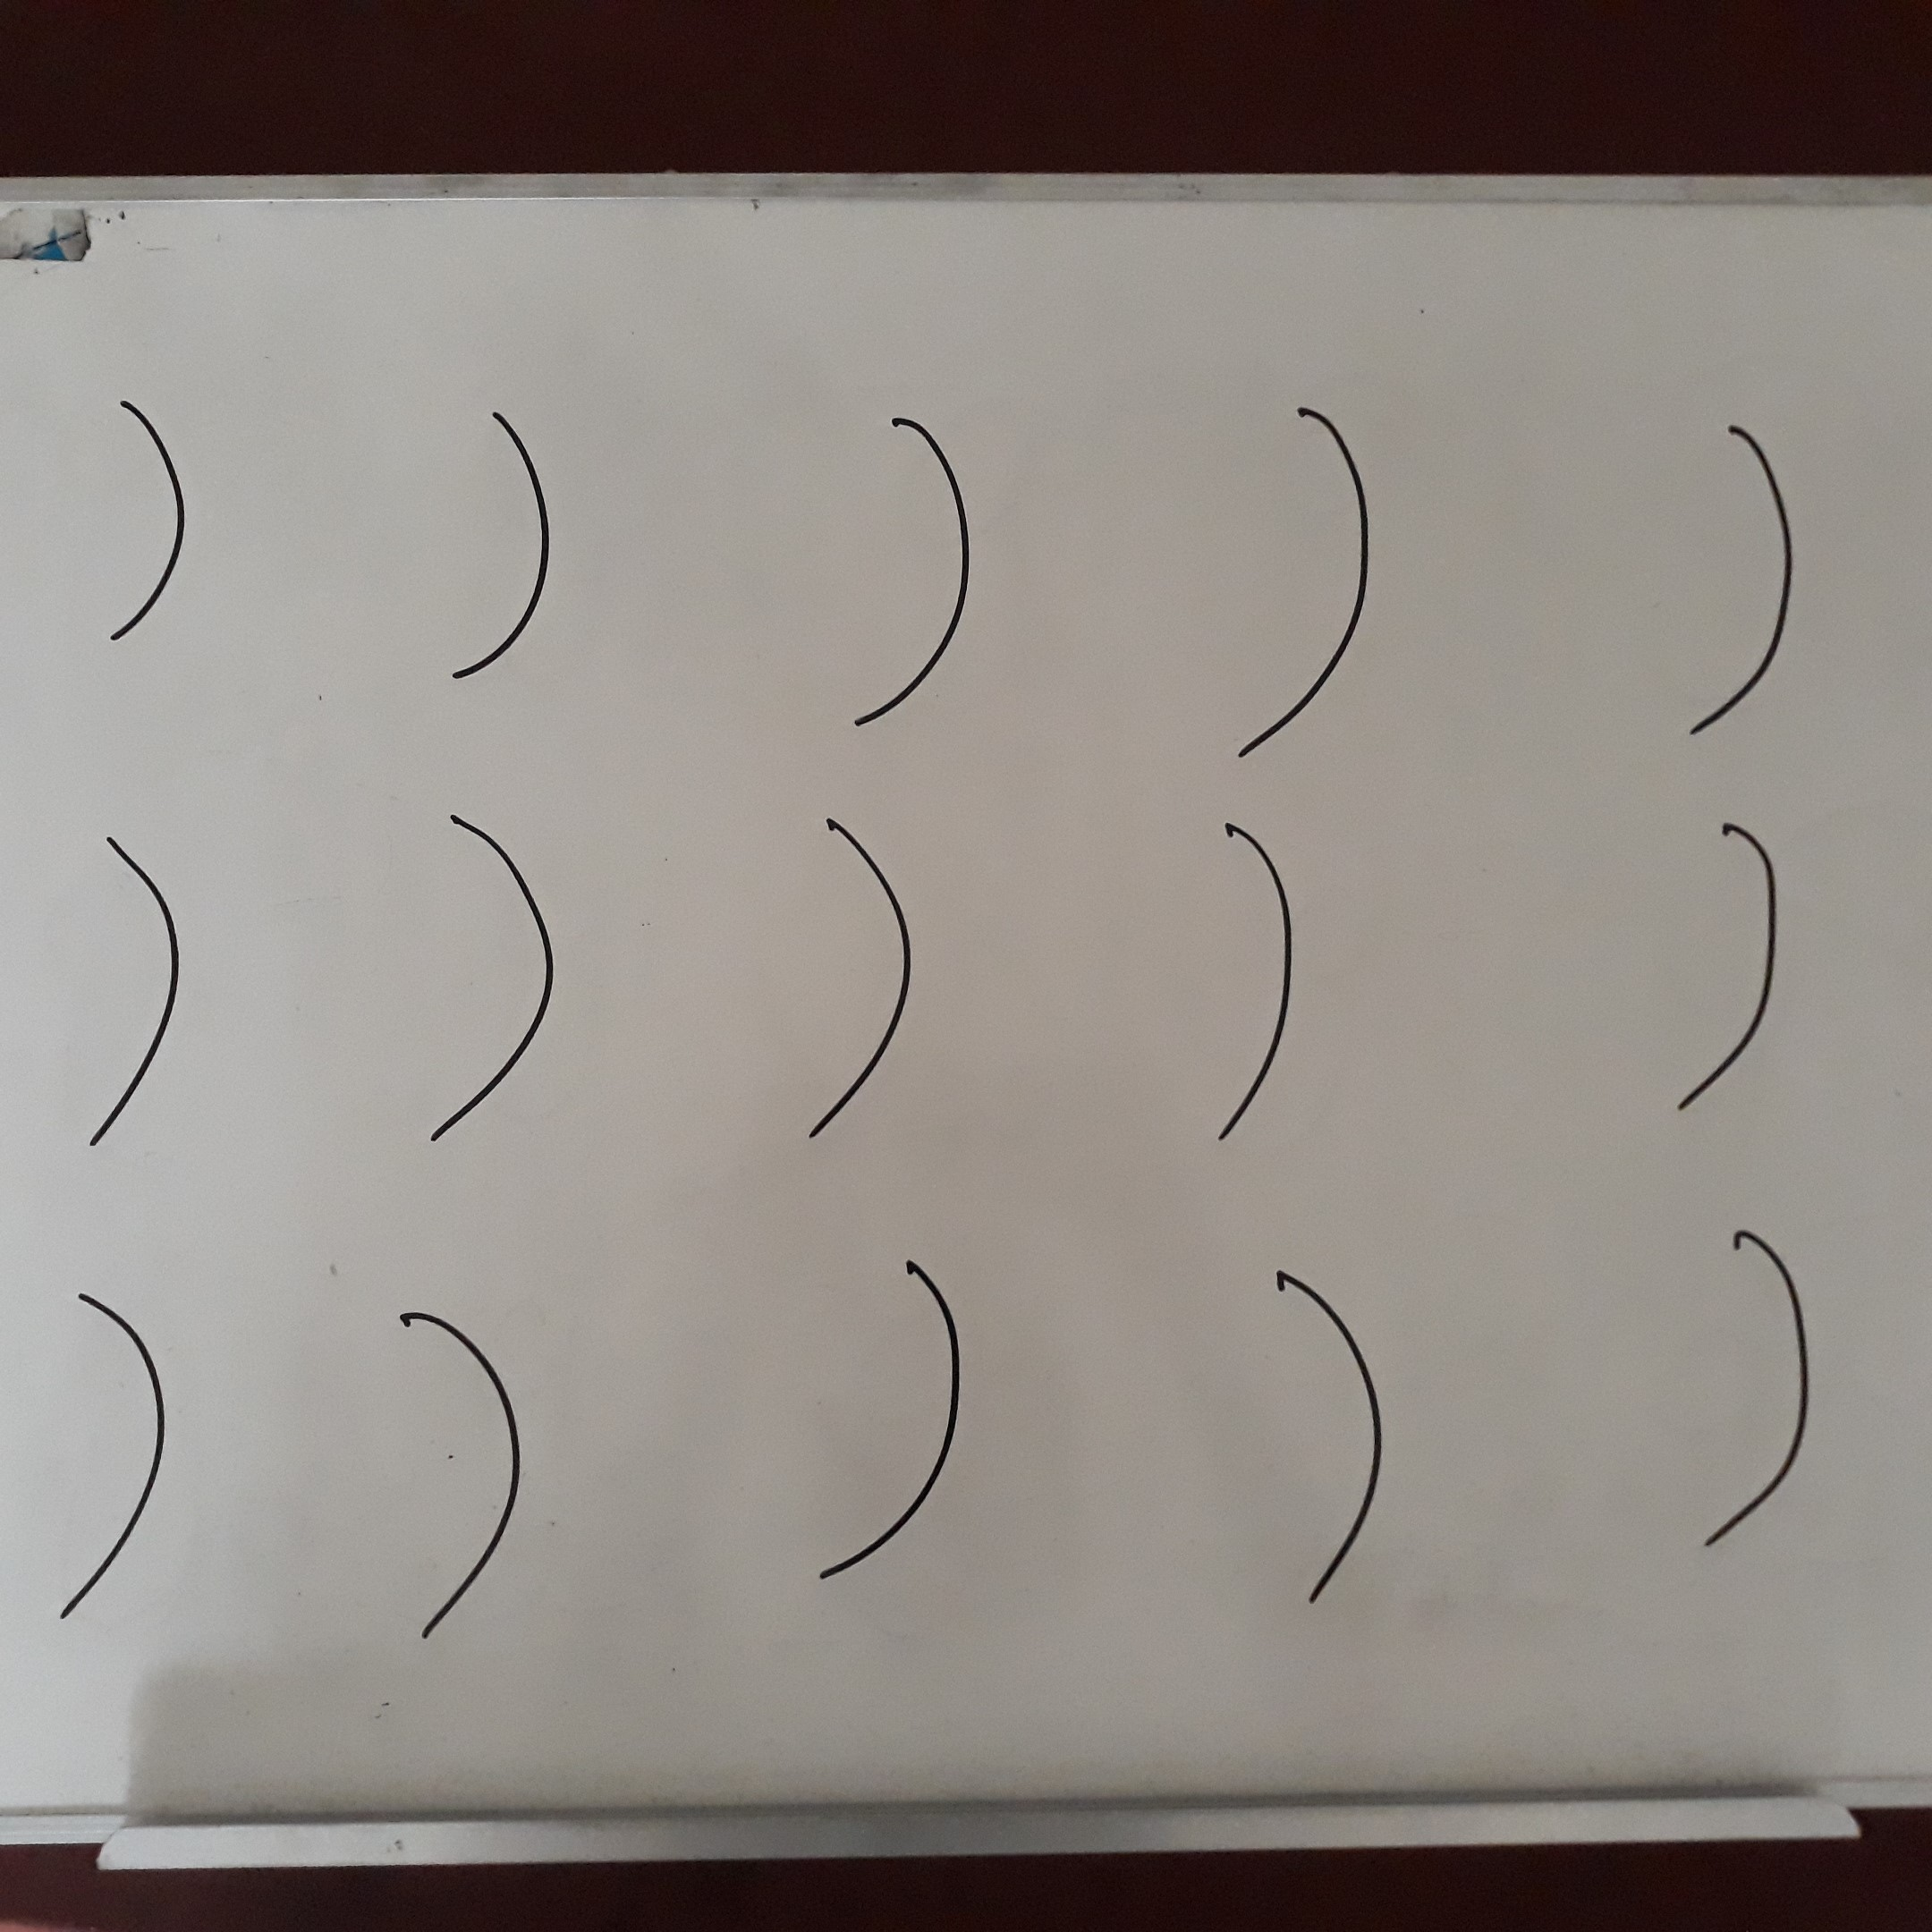closebracket: (775, 1250, 1015, 1609), (1208, 379, 1415, 776), (370, 1289, 551, 1652), (1657, 385, 1826, 759), (1255, 1257, 1421, 1626), (821, 402, 996, 744), (33, 1281, 195, 1633), (1678, 1217, 1840, 1563), (778, 811, 936, 1160), (63, 823, 214, 1173), (424, 806, 563, 1174), (419, 392, 586, 696), (1659, 817, 1810, 1128), (1198, 815, 1328, 1160), (83, 381, 225, 665)
